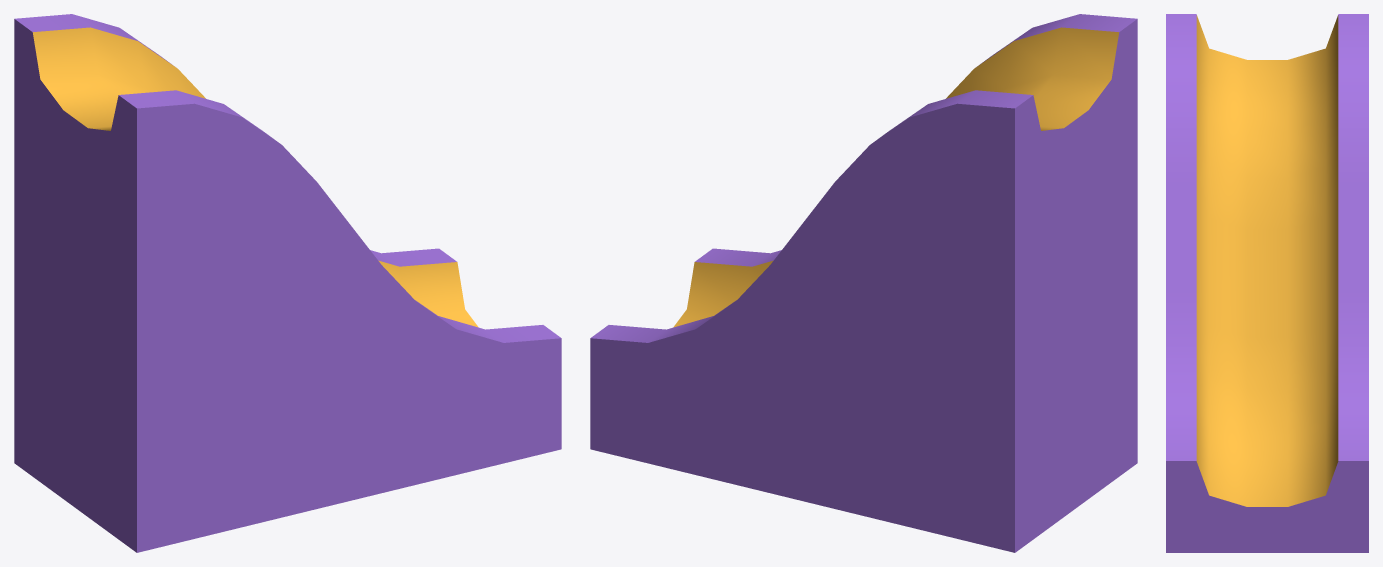
Rendered from ramp-long-solid-d-col.glb.
3 views of the same model, side by side, from view 1: azimuth 30°, elevation 25°; view 2: azimuth 150°, elevation 25°; view 3: azimuth 270°, elevation 25° (orthographic). The views are drawn at different scales.
Parts seen in each view (by area): view 1: ramp-long-solid-d-col; view 2: ramp-long-solid-d-col; view 3: ramp-long-solid-d-col.
Boxes of the visible parts, x1,y1,x2,y2 form: ramp-long-solid-d-col: (14, 14, 561, 552); ramp-long-solid-d-col: (590, 14, 1137, 552); ramp-long-solid-d-col: (1166, 14, 1368, 552).
Size of the model in its own units: 2 by 2 by 1.
1 material, 1 textured.
